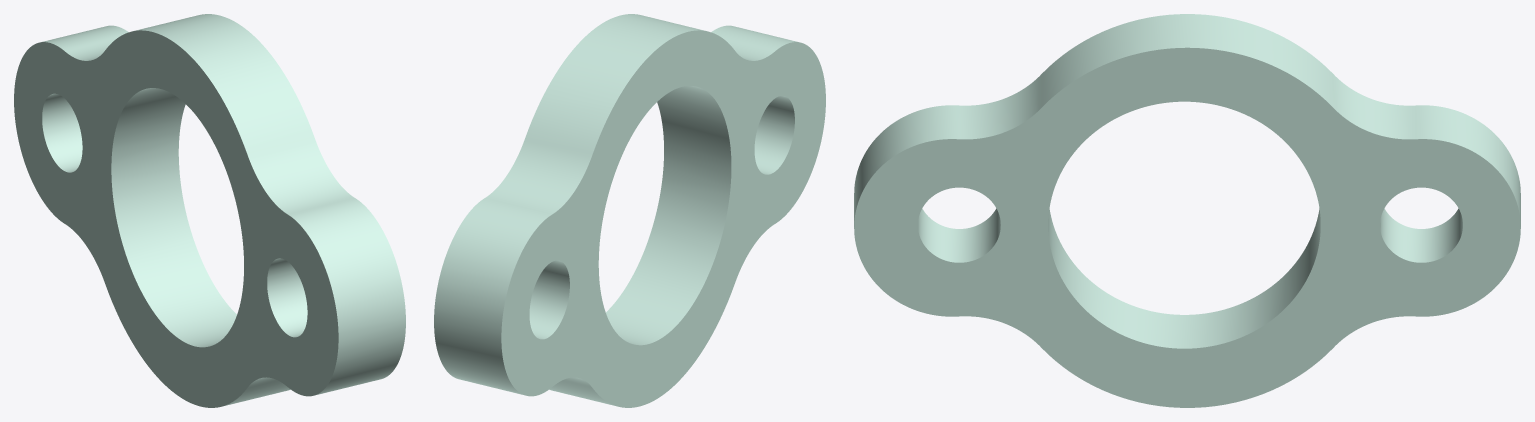
3 views of the same model, side by side, from view 1: azimuth 30°, elevation 25°; view 2: azimuth 150°, elevation 25°; view 3: azimuth 270°, elevation 25° (orthographic). The views are drawn at different scales.
Parts seen in each view (by area): view 1: Renderer Node; view 2: Renderer Node; view 3: Renderer Node.
Part boxes in pixels (x1,y1,x2,y2): Renderer Node: (14,14,405,407); Renderer Node: (434,14,825,407); Renderer Node: (854,14,1520,407).
Size of the model in its own units: 0.1797 by 0.8937 by 1.5.
